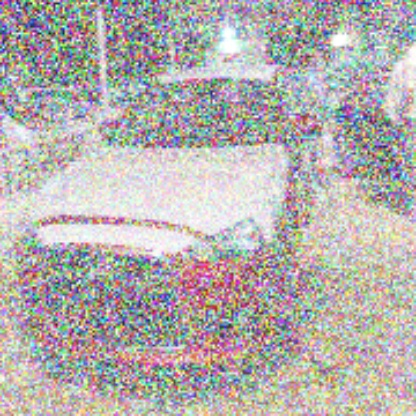Vehicle: (16, 61, 322, 370)
